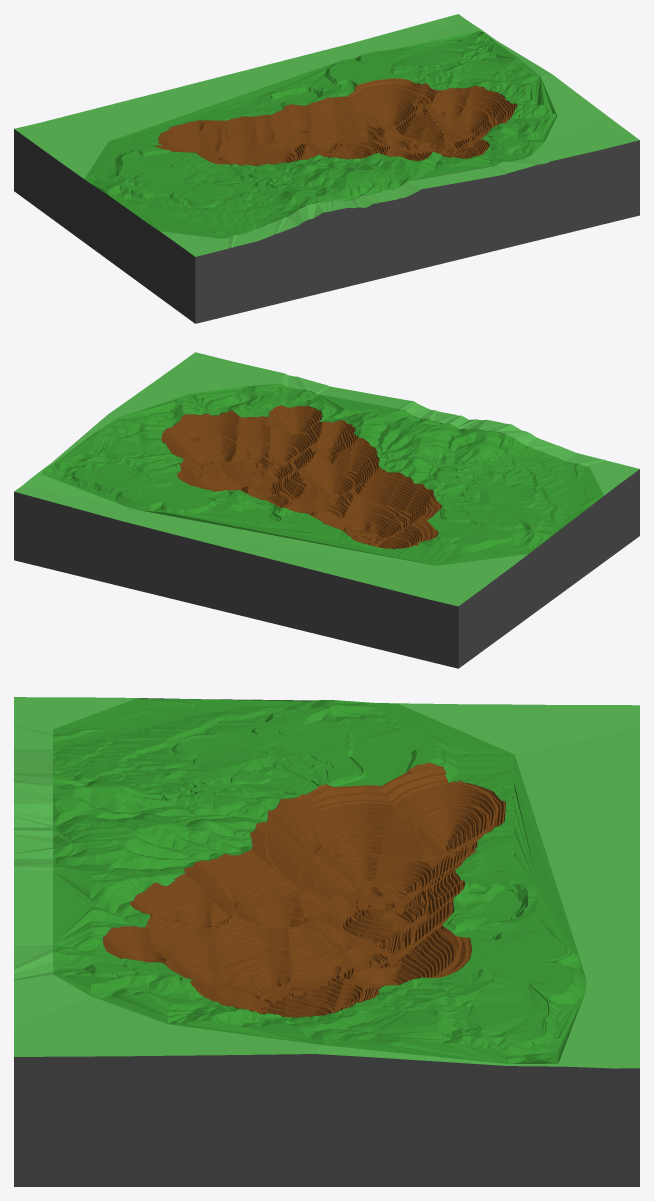
The model's file is AGMK_A4.glb.
3 views of the same model, one above another, from view 1: azimuth 30°, elevation 25°; view 2: azimuth 150°, elevation 25°; view 3: azimuth 270°, elevation 25° (orthographic). The views are drawn at different scales.
Parts seen in each view (by area): view 1: 4 cube, 4 land, 4 cant_obr, 4 pit; view 2: 4 land, 4 cube, 4 pit, 4 cant_obr; view 3: 4 land, 4 cube, 4 cant_obr, 4 pit.
Part boxes in pixels (box(x1,y1,x2,y2)): 4 cube: box(14, 83, 639, 323); 4 land: box(84, 31, 557, 238); 4 cant_obr: box(14, 14, 639, 256); 4 pit: box(155, 78, 516, 165); 4 land: box(41, 383, 603, 565); 4 cube: box(14, 391, 639, 668); 4 pit: box(161, 405, 442, 548); 4 cant_obr: box(14, 352, 639, 606); 4 land: box(53, 698, 586, 1063); 4 cube: box(14, 698, 639, 1186); 4 cant_obr: box(14, 697, 639, 1068); 4 pit: box(103, 762, 505, 1017).
Bounding box in the file's own units: 1.15 × 0.202 × 0.813.
